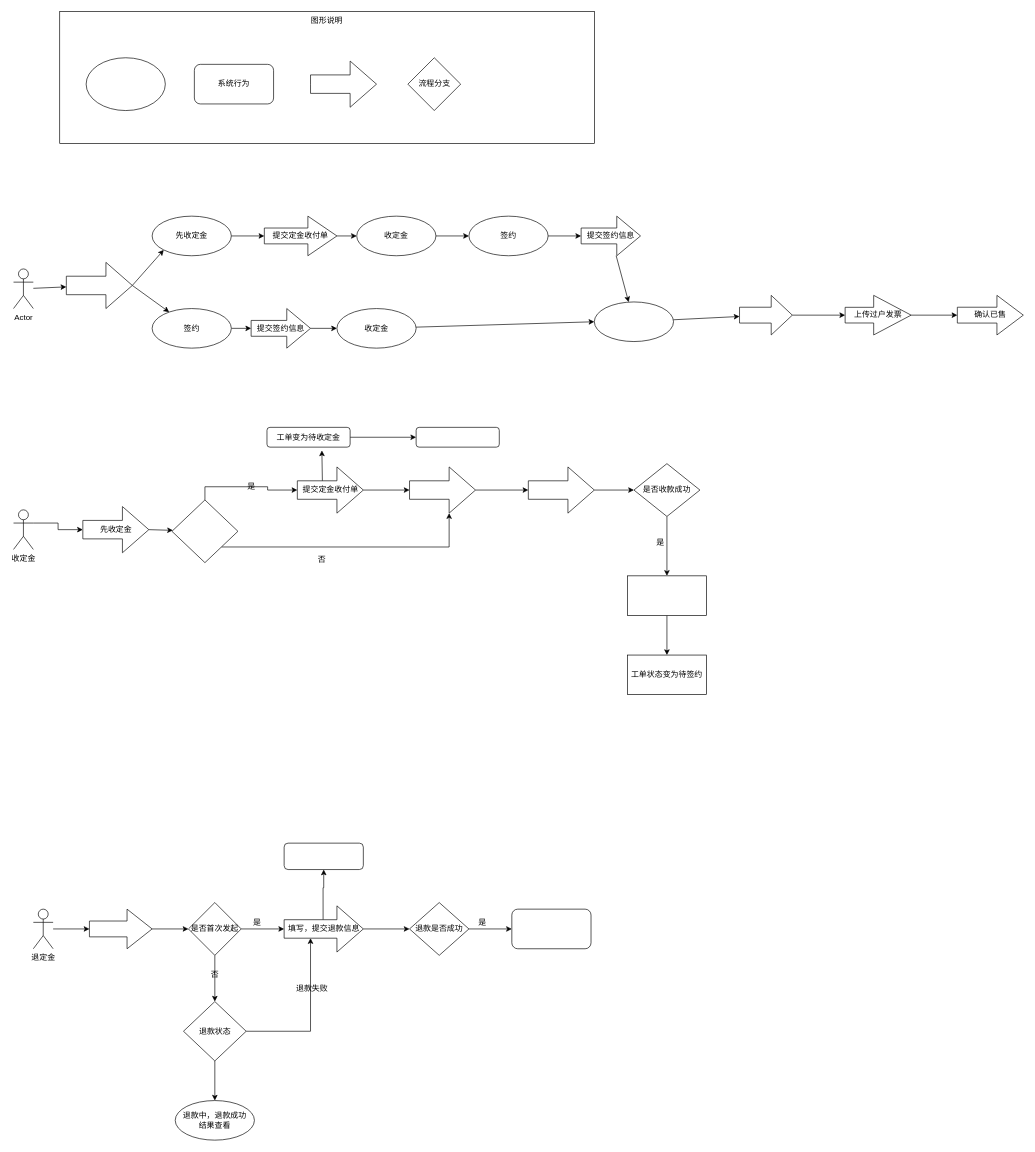
Image size: 1035x1152. Some labels were removed from this diagram. The centre of each missing label's shape, as x and y in pixels:
"一系列动作聚合" belongs at point 125,84.
"二维码付款" belongs at point 561,489.
"发起退定金" belongs at point 120,928.
"复检" belongs at point 634,321.
"工单状态变为待跟进" belongs at point 551,928.
"提单" belongs at point 99,285.
"收尾款" belongs at point 765,315.
"是否首次提交" belongs at point 204,531.
"生成定金付款单" belongs at point 667,595.
"生成定金收款单" belongs at point 457,437.
"生成退款单" belongs at point 323,856.
"用户动作" belongs at point 343,83.
"选择支付方式" belongs at point 442,489.
